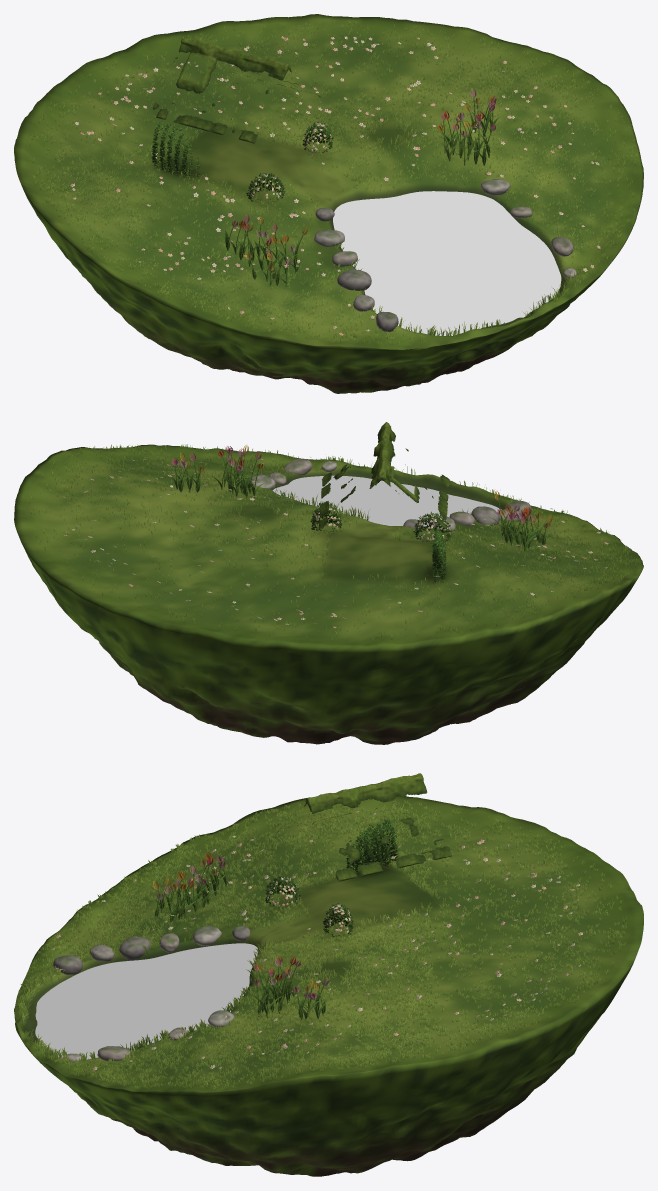
The model's file is village-spring.glb.
3 renders of one model, top to bottom at view 1: azimuth 30°, elevation 25°; view 2: azimuth 150°, elevation 25°; view 3: azimuth 270°, elevation 25°, orthographic. The views are drawn at different scales.
Visible parts, largest first — view 1: turf, growth, water; view 2: turf, growth, water; view 3: turf, growth, water.
Boxes of the visible parts, x1,y1,x2,y2 form: turf: (14, 14, 643, 393); growth: (29, 20, 638, 346); water: (333, 191, 561, 335); turf: (14, 422, 643, 744); growth: (28, 444, 639, 641); water: (272, 475, 501, 526); turf: (14, 773, 643, 1176); growth: (18, 799, 627, 1090); water: (35, 943, 257, 1059).
Size of the model in its own units: 106 by 47.9 by 99.7.
